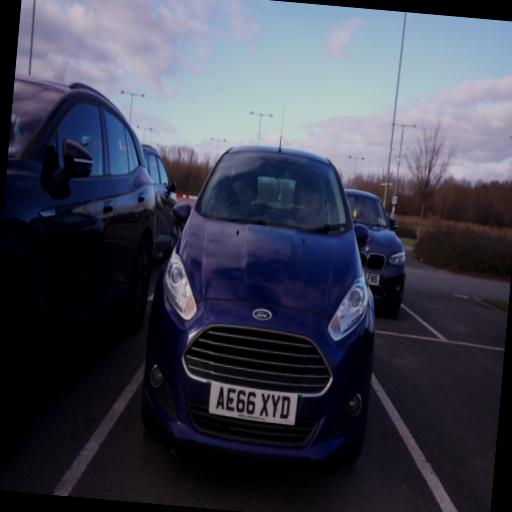numberplates: (209, 383, 297, 425), (365, 274, 380, 286)
